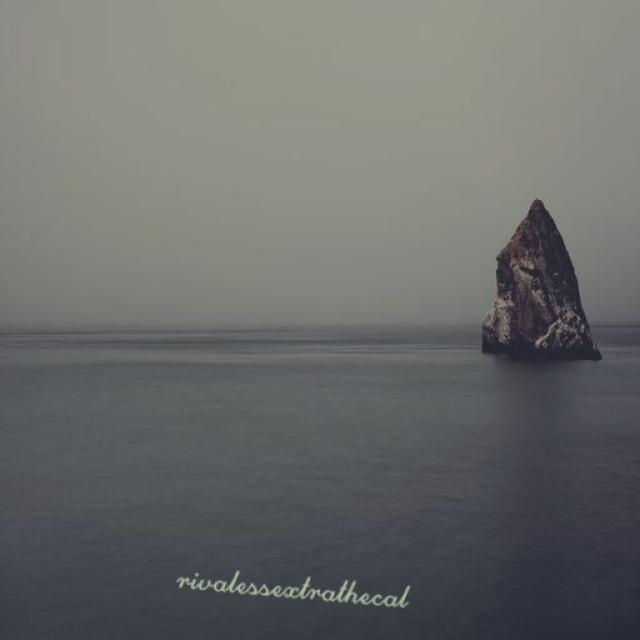watermark: (168, 563, 429, 612)
